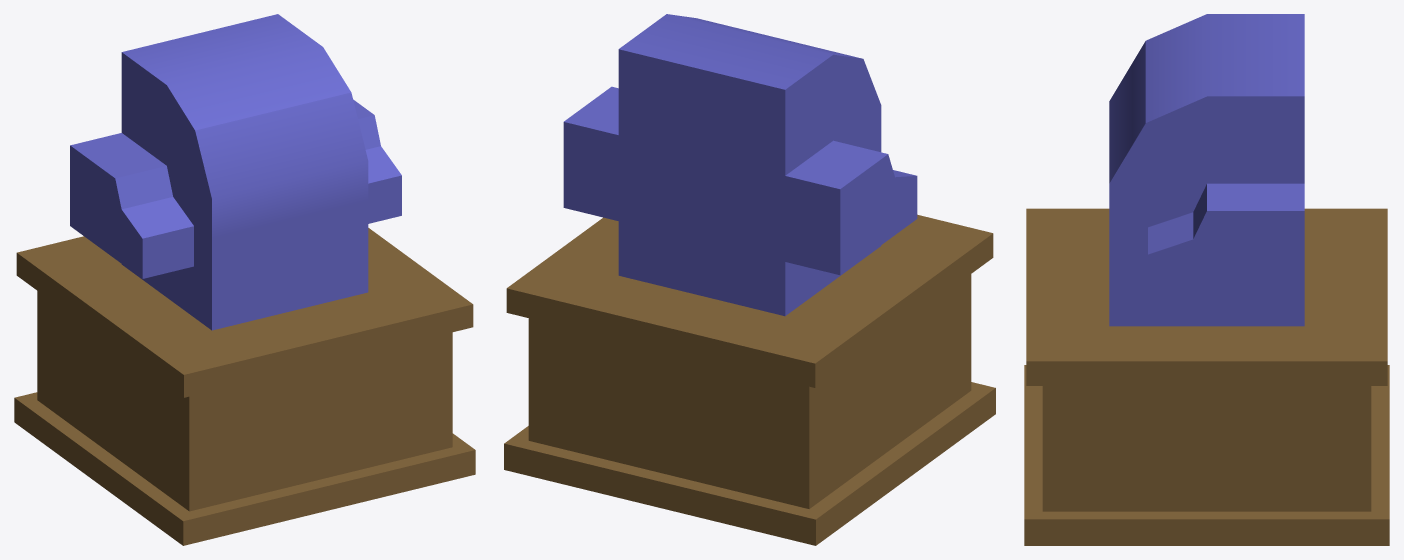
The model's file is peão.fbx.
The picture shows the model from 3 angles, left to right: view 1: azimuth 30°, elevation 25°; view 2: azimuth 150°, elevation 25°; view 3: azimuth 270°, elevation 25°; orthographic projection. The views are drawn at different scales.
Visible parts, largest first — view 1: Plane; view 2: Plane; view 3: Plane.
Part boxes in pixels (x1,y1,x2,y2): Plane: [14, 14, 475, 545]; Plane: [504, 14, 995, 545]; Plane: [1024, 14, 1389, 545].
Bounding box in the file's own units: 400 × 500 × 400.
